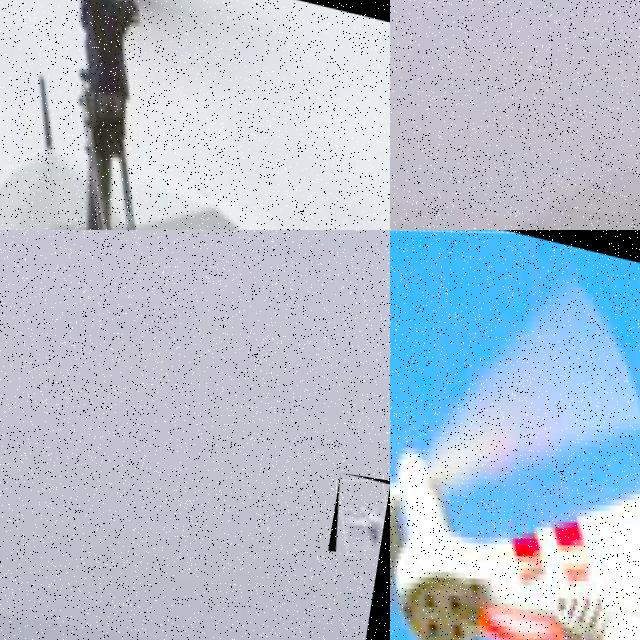0: (328, 472, 390, 558)
drone: (390, 230, 640, 640), (0, 0, 390, 230)
